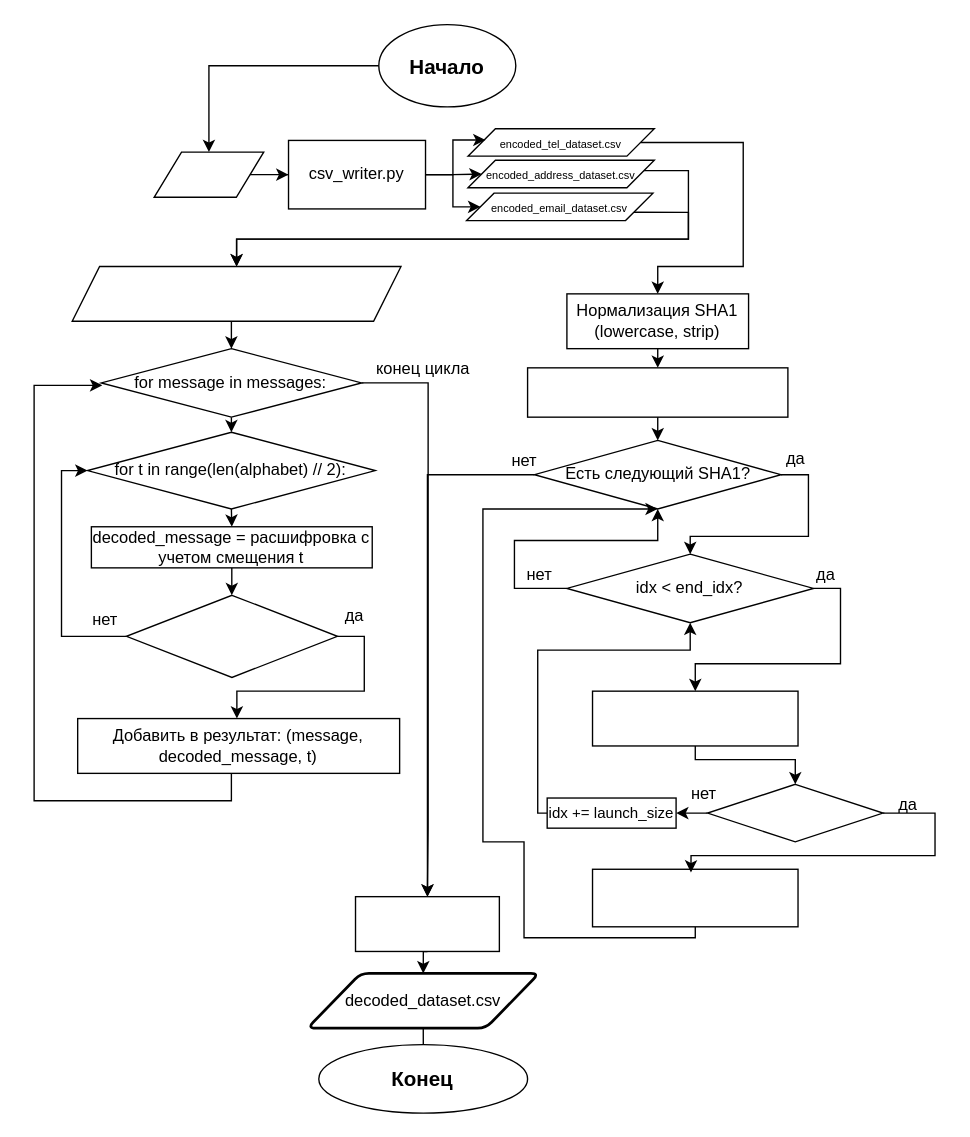
Image size: 970x1137. Some labels were removed from this diagram. The shapes that lost their labels are listed below. From the top down, each one's centre as x and y in pixels, then its label:
At (x=208, y=174): "data.xlsx".
At (x=236, y=293): "Вход: messages, alphabet, key_words".
At (x=657, y=391): "Определение маски 89xxxxxxxxx Вычисление диапазона idx".
At (x=231, y=635): "decoded_message валидно?".
At (x=694, y=718): "Запуск OpenCL kernel".
At (x=794, y=812): "found_flag == 1?".
At (x=694, y=897): "Запись телефона; Сохранить в результат".
At (x=426, y=923): "write_to_csv".
